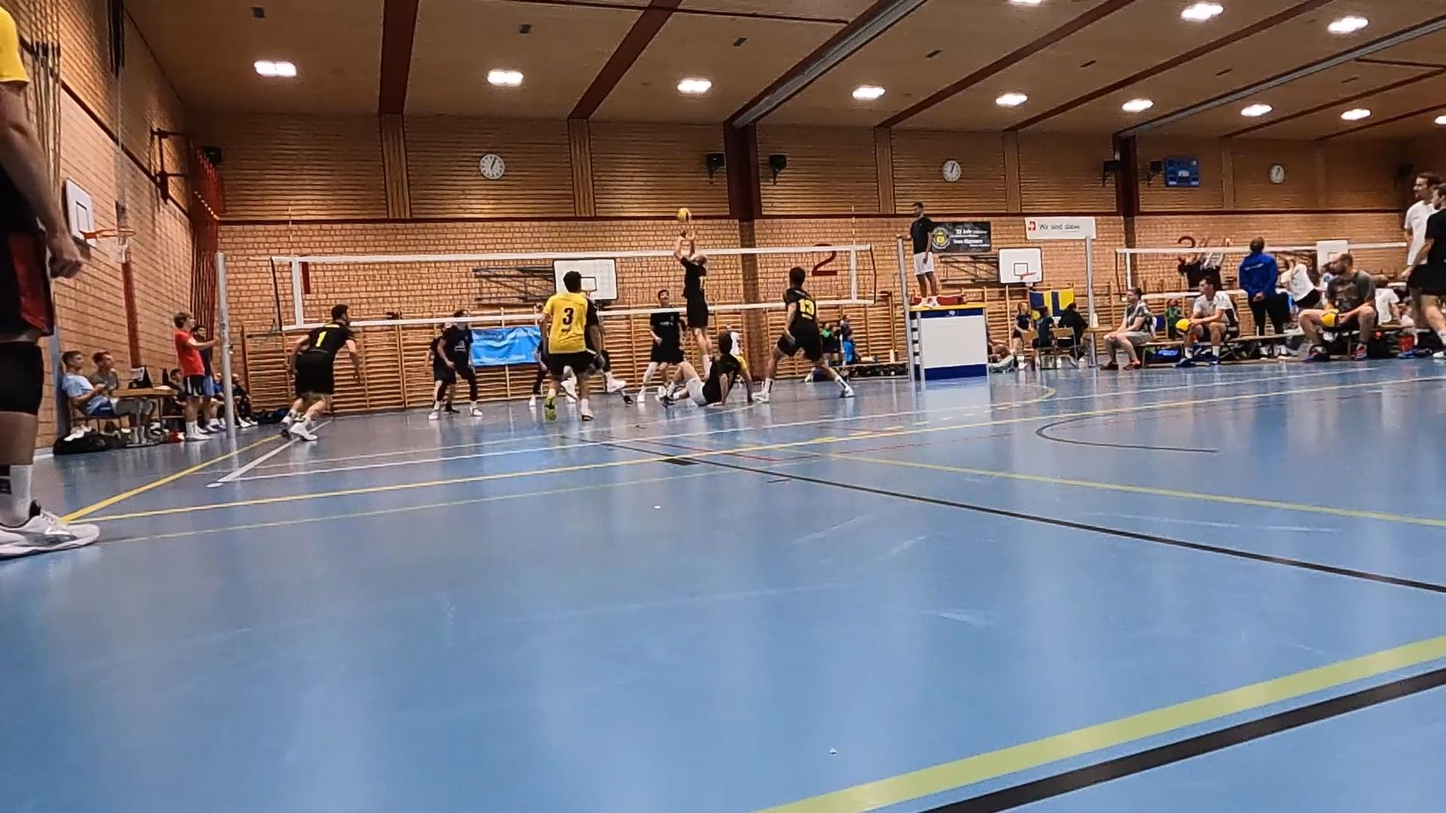Player: (759, 266, 853, 401), (282, 304, 362, 440), (542, 271, 594, 421), (660, 331, 753, 406), (584, 293, 633, 404), (429, 322, 482, 419), (639, 290, 684, 400)
Set: (676, 228, 715, 381)
